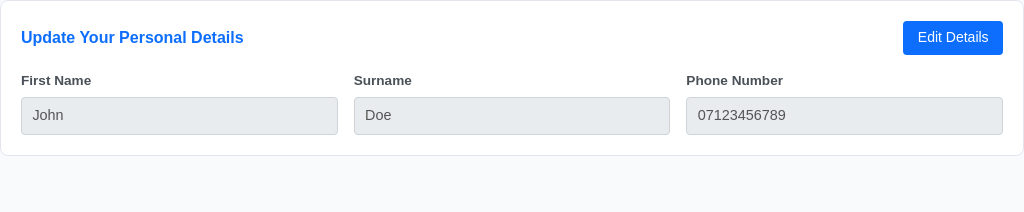
Test: CustomerProfile Component › discards changes and exits edit mode when Cancel is clicked
expect the field showing "John" is shown: met, box x1=21 y1=97 x2=338 y2=135
Click the button "Edit Details". click: (953, 38)
box: x1=903 y1=21 x2=1003 y2=55
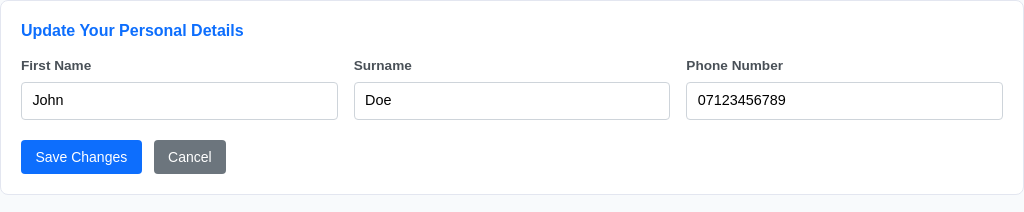
Replace the text in the field labelled "First Name" with "Jane". click: (179, 101)
box: x1=21 y1=82 x2=338 y2=120
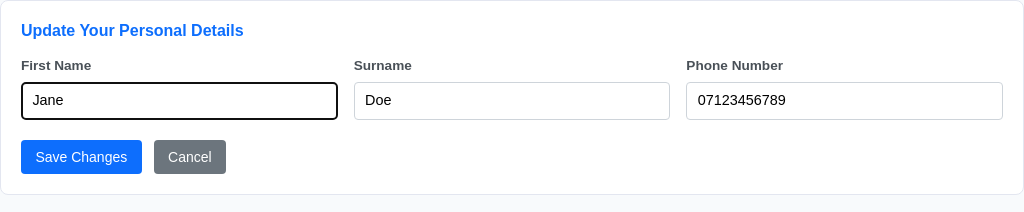
Click the button "Cancel". click: (190, 157)
box: x1=154 y1=140 x2=226 y2=174
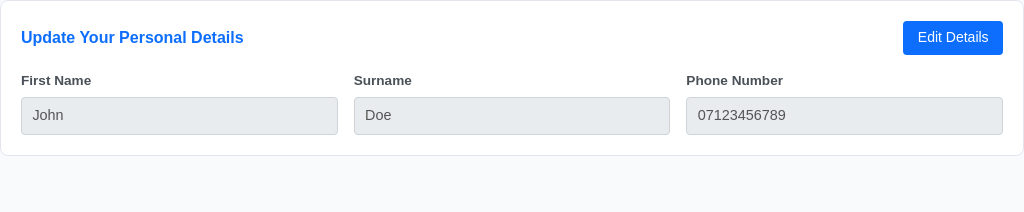
expect the field labelled "First Name" holds "John": met, box x1=21 y1=97 x2=338 y2=135
expect the field labelled "First Name" is disabled: met, box x1=21 y1=97 x2=338 y2=135
